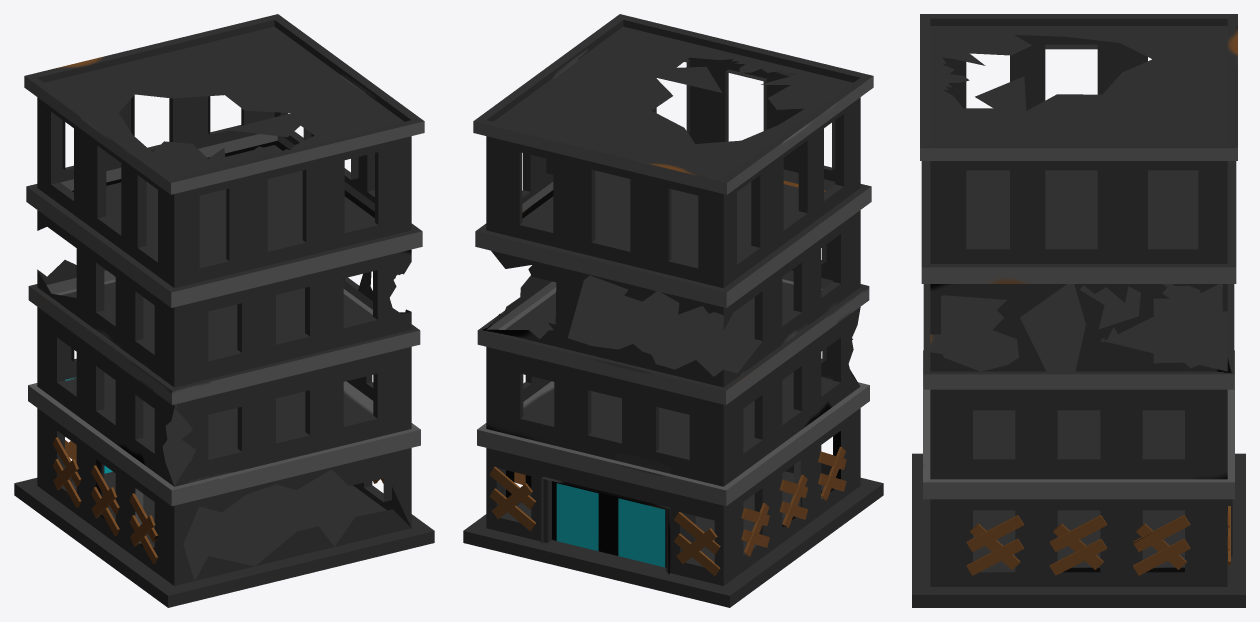
The model's file is Edificio_Ruinas.fbx.
3 views of the same model, side by side, from view 1: azimuth 30°, elevation 25°; view 2: azimuth 150°, elevation 25°; view 3: azimuth 270°, elevation 25° (orthographic). The views are drawn at different scales.
Visible parts, largest first — view 1: Edificio; view 2: Edificio; view 3: Edificio.
Part boxes in pixels (x1=…): Edificio: x1=14, y1=14, x2=434, y2=607; Edificio: x1=463, y1=14, x2=883, y2=607; Edificio: x1=912, y1=14, x2=1245, y2=607.
Bounding box in the file's own units: 1124 × 1695 × 1124.
